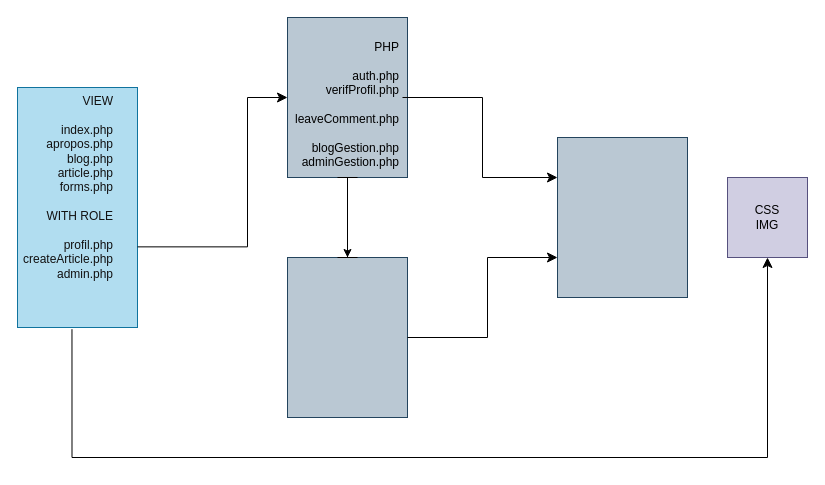
This 825x485 diagram has some shape labels left out. The centre of each missing label's shape, as x and y in pixels:
"CLASS DbConnect.php User.php Article.php Comments.php" goes at (622,217).
"JS menu.js profil.js forms.js blog.js admin.js" goes at (347,337).
